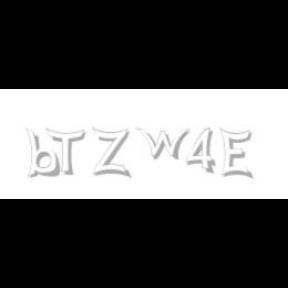4: (184, 128, 216, 174)
E: (220, 128, 252, 180)
T: (45, 128, 85, 176)
Z: (92, 128, 130, 178)
b: (25, 128, 63, 178)
w: (135, 128, 194, 160)
